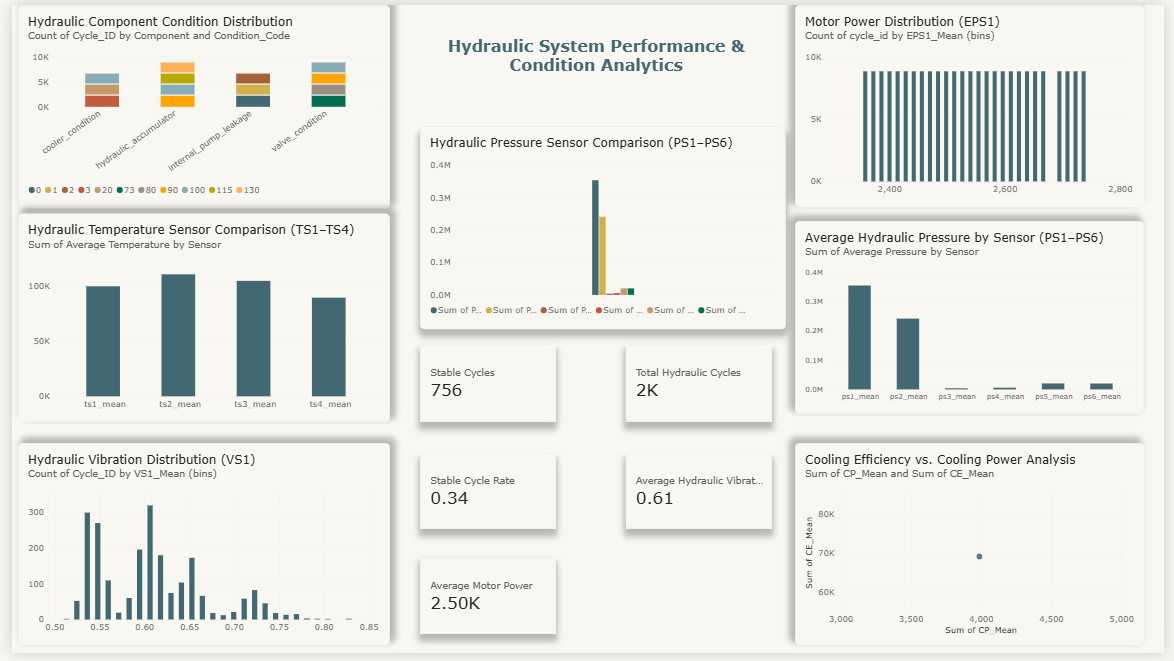

The dashboard page shown, as its layout file describes it:
{"tool":"powerbi","page":{"name":"Hydraulic Analytics","canvas":[1920,1080],"ordinal":2},"visuals":[{"type":"columnChart","title":"Hydraulic Component Condition Distribution","fields":{"Category":["Component_Condition_Analysis.Component"],"Series":["Component_Condition_Analysis.Condition_Code"],"Y":["CountNonNull(Fact_HydraulicCycles.Cycle_ID)"]},"box":[10,0,620,340],"z":0},{"type":"clusteredColumnChart","title":"Hydraulic Temperature Sensor Comparison (TS1–TS4)","fields":{"Category":["Temperature_Sensor_Analysis.Sensor"],"Y":["Sum(Temperature_Sensor_Analysis.Average Temperature)"]},"box":[10,348,620,348],"z":1},{"type":"clusteredColumnChart","title":"Average Hydraulic Pressure by Sensor (PS1–PS6)","fields":{"Category":["Pressure_Sensor_Analysis.Sensor"],"Y":["Sum(Pressure_Sensor_Analysis.Average Pressure)"]},"box":[1305,360,582,322],"z":2},{"type":"clusteredColumnChart","title":"Hydraulic Pressure Sensor Comparison (PS1–PS6)","fields":{"Y":["Sum(Fact_HydraulicCycles.PS1_Mean)","Sum(Fact_HydraulicCycles.PS2_Mean)","Sum(Fact_HydraulicCycles.PS3_Mean)","Sum(Fact_HydraulicCycles.PS4_Mean)","Sum(Fact_HydraulicCycles.PS5_Mean)","Sum(Fact_HydraulicCycles.PS6_Mean)"]},"box":[680,202.5,610,338],"z":3},{"type":"cardVisual","fields":{"Data":["Hydraulic_Measures.Stable Cycles"]},"box":[680,565,226,130],"z":4},{"type":"cardVisual","fields":{"Data":["Hydraulic_Measures.Stable Cycle Rate"]},"box":[680,747.5,226,126],"z":5},{"type":"cardVisual","fields":{"Data":["Hydraulic_Measures.Average Motor Power"]},"box":[680,920,226,128],"z":6},{"type":"cardVisual","fields":{"Data":["Hydraulic_Measures.Average Hydraulic Vibration"]},"box":[1022.5,747.5,244,126],"z":7},{"type":"cardVisual","fields":{"Data":["Hydraulic_Measures.Total Hydraulic Cycles"]},"box":[1022.5,565,244,130],"z":8},{"type":"clusteredColumnChart","title":"Hydraulic Vibration Distribution (VS1)","fields":{"Category":["Fact_HydraulicCycles.VS1_Mean (bins)"],"Y":["CountNonNull(Fact_HydraulicCycles.Cycle_ID)"]},"box":[10,730,620,337.5],"z":9},{"type":"scatterChart","title":"Cooling Efficiency vs. Cooling Power Analysis","fields":{"X":["Sum(Fact_HydraulicCycles.CP_Mean)"],"Y":["Sum(Fact_HydraulicCycles.CE_Mean)"]},"box":[1305,730,582.5,337.5],"z":10},{"type":"columnChart","title":"Motor Power Distribution (EPS1)","fields":{"Category":["Fact_HydraulicCycles.EPS1_Mean (bins)"],"Y":["CountNonNull(Component_Condition_Analysis.cycle_id)"]},"box":[1305,0,582.5,337.5],"z":11},{"type":"textbox","box":[680,17.5,587.5,152.5],"z":12}]}

Visuals, with their boxes in screenshot pixels (x1, y1, x2, y2), scaled from the page's 1920x1080 canvas onto the 1174x661 screenshot:
"Hydraulic Component Condition Distribution" columnChart: <bbox>6, 0, 385, 208</bbox>
"Hydraulic Temperature Sensor Comparison (TS1–TS4)" clusteredColumnChart: <bbox>6, 213, 385, 426</bbox>
"Average Hydraulic Pressure by Sensor (PS1–PS6)" clusteredColumnChart: <bbox>798, 220, 1154, 417</bbox>
"Hydraulic Pressure Sensor Comparison (PS1–PS6)" clusteredColumnChart: <bbox>416, 124, 789, 331</bbox>
cardVisual - Hydraulic_Measures.Stable Cycles: <bbox>416, 346, 554, 425</bbox>
cardVisual - Hydraulic_Measures.Stable Cycle Rate: <bbox>416, 457, 554, 535</bbox>
cardVisual - Hydraulic_Measures.Average Motor Power: <bbox>416, 563, 554, 641</bbox>
cardVisual - Hydraulic_Measures.Average Hydraulic Vibration: <bbox>625, 457, 774, 535</bbox>
cardVisual - Hydraulic_Measures.Total Hydraulic Cycles: <bbox>625, 346, 774, 425</bbox>
"Hydraulic Vibration Distribution (VS1)" clusteredColumnChart: <bbox>6, 447, 385, 653</bbox>
"Cooling Efficiency vs. Cooling Power Analysis" scatterChart: <bbox>798, 447, 1154, 653</bbox>
"Motor Power Distribution (EPS1)" columnChart: <bbox>798, 0, 1154, 207</bbox>
textbox: <bbox>416, 11, 775, 104</bbox>
